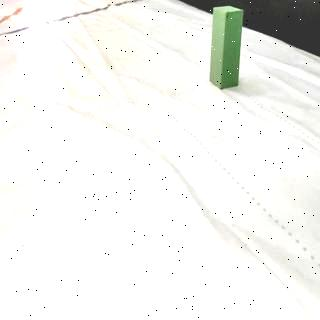greenbox: (212, 5, 244, 89)
